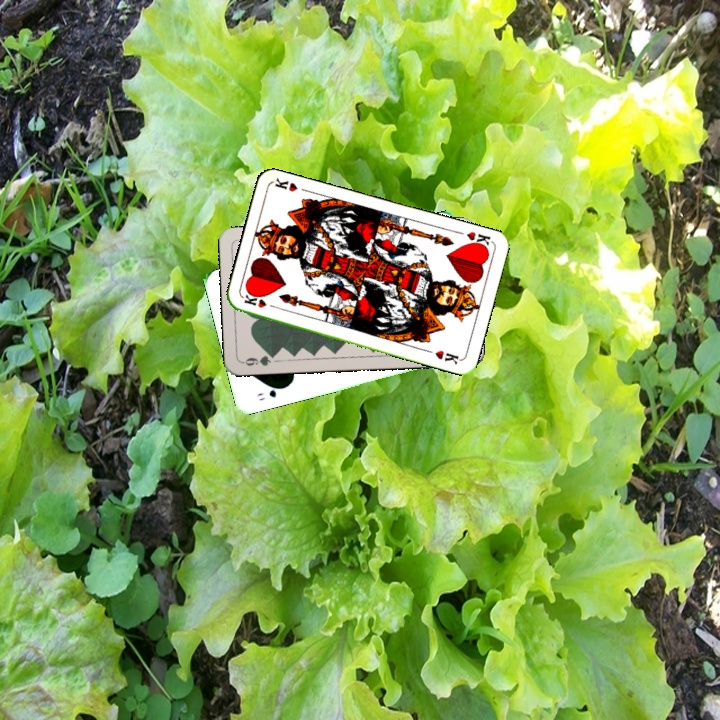G9: (239, 349, 279, 368)
GO: (253, 383, 288, 403)
HK: (240, 290, 280, 311), (463, 227, 493, 252)
